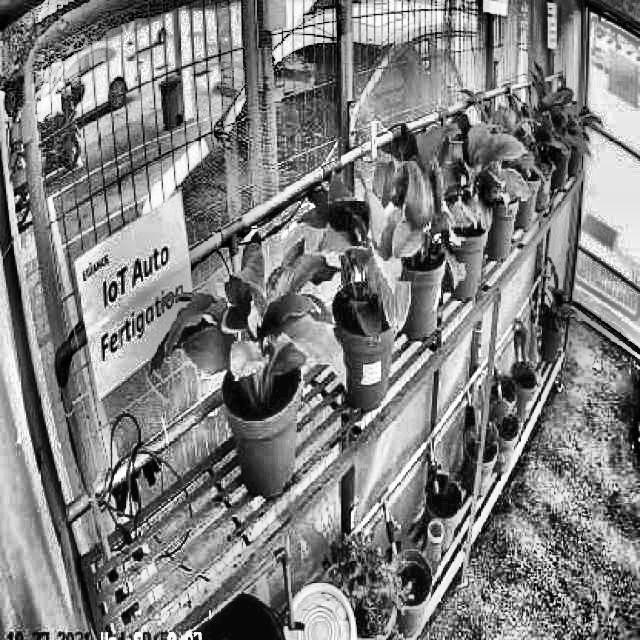plants: (152, 232, 345, 414), (320, 188, 414, 338), (379, 134, 467, 288), (432, 109, 530, 234)
